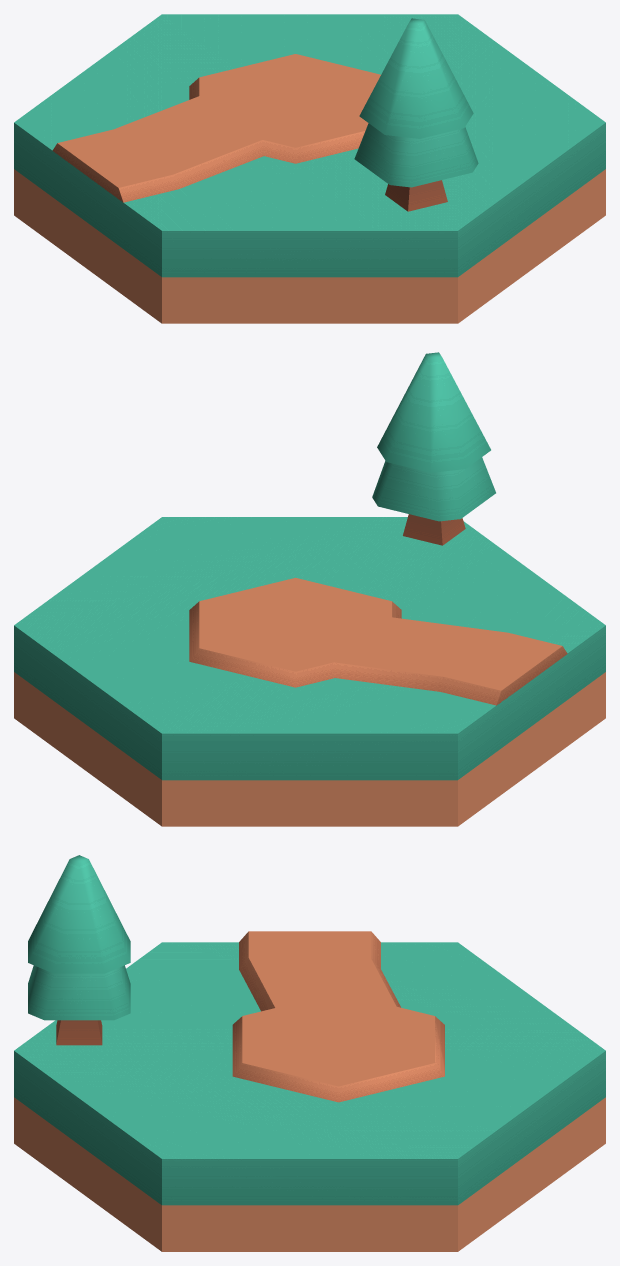
The model's file is grass-path-start-tree.glb.
3 renders of one model, top to bottom at view 1: azimuth 30°, elevation 25°; view 2: azimuth 150°, elevation 25°; view 3: azimuth 270°, elevation 25°, orthographic.
Visible parts, largest first — view 1: grass, path-start, unit-tree; view 2: grass, path-start, unit-tree; view 3: grass, path-start, unit-tree.
Boxes of the visible parts, box(x1,y1,x2,y2) form: grass: box(14, 14, 605, 323); path-start: box(52, 54, 380, 202); unit-tree: box(354, 18, 478, 211); grass: box(14, 517, 605, 826); path-start: box(189, 577, 567, 705); unit-tree: box(372, 352, 495, 545); grass: box(14, 942, 605, 1251); path-start: box(232, 931, 444, 1102); unit-tree: box(28, 855, 130, 1045).
Bounding box in the file's own units: 1 × 0.603 × 1.15.
1 material, 1 textured.
